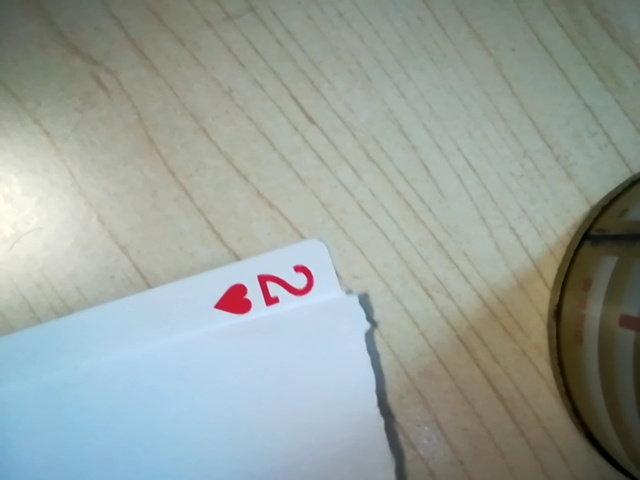hx 2: (206, 263, 326, 321)
